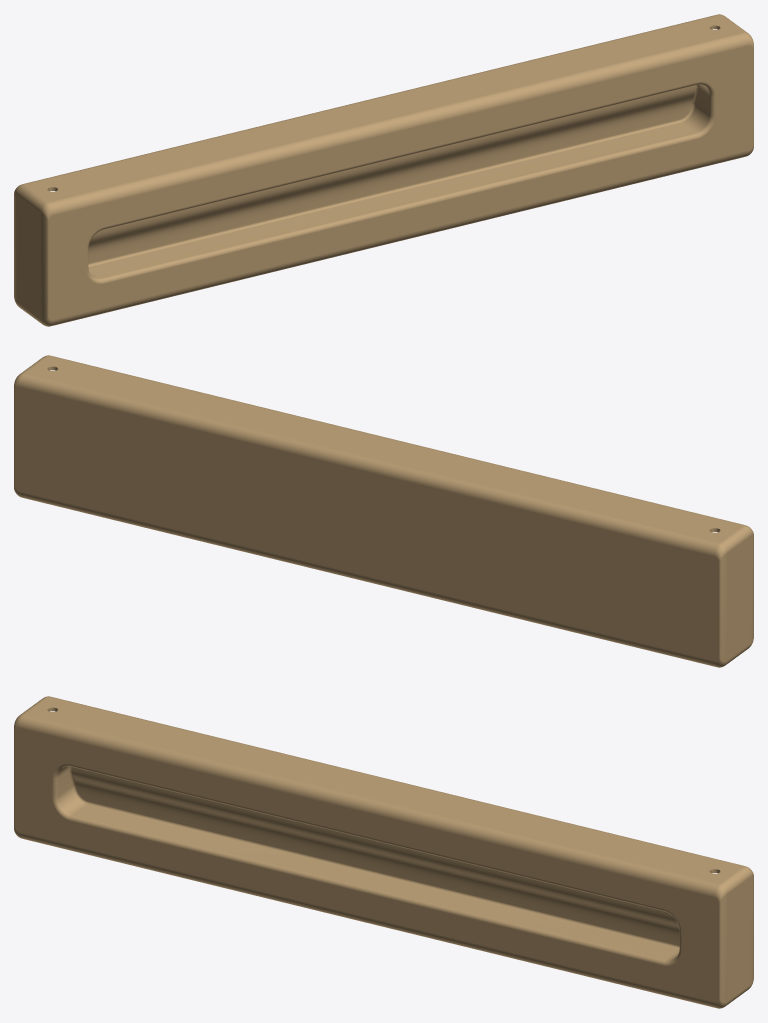
Rendered from metolius-light-rail-2-0.glb.
3 renders of one model, top to bottom at view 1: azimuth 30°, elevation 25°; view 2: azimuth 150°, elevation 25°; view 3: azimuth 330°, elevation 25°, orthographic.
Parts seen in each view (by area): view 1: rail--body, lr-top-jug-40, rail--channel-back, lr-recess-lower-20, lr-bottom-jug-40, lr-recess-upper-15; view 2: rail--body, lr-top-jug-40, lr-bottom-jug-40; view 3: rail--body, lr-top-jug-40, rail--channel-back, lr-recess-lower-20, lr-bottom-jug-40, lr-recess-upper-15.
Part boxes in pixels (<box>): rail--body: <box>14,46,753,320</box>; lr-top-jug-40: <box>14,14,753,219</box>; rail--channel-back: <box>88,85,695,263</box>; lr-recess-lower-20: <box>86,88,715,284</box>; lr-bottom-jug-40: <box>14,145,753,326</box>; lr-recess-upper-15: <box>86,81,715,268</box>; rail--body: <box>14,387,753,661</box>; lr-top-jug-40: <box>14,355,753,560</box>; lr-bottom-jug-40: <box>14,486,753,667</box>; rail--body: <box>14,728,753,1002</box>; lr-top-jug-40: <box>14,696,753,901</box>; rail--channel-back: <box>72,767,679,945</box>; lr-recess-lower-20: <box>52,785,681,966</box>; lr-bottom-jug-40: <box>14,827,753,1008</box>; lr-recess-upper-15: <box>52,763,681,932</box>.
Bounding box in the file's own units: 0.457 × 0.076 × 0.038.
